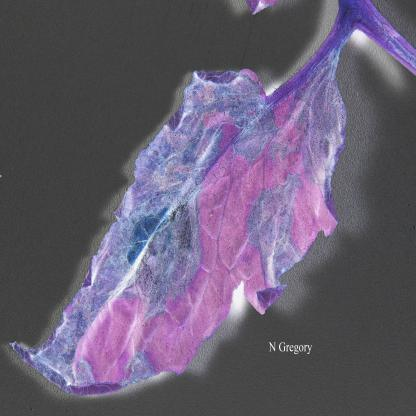Tomato leaf mosaic virus: (13, 31, 341, 395)
